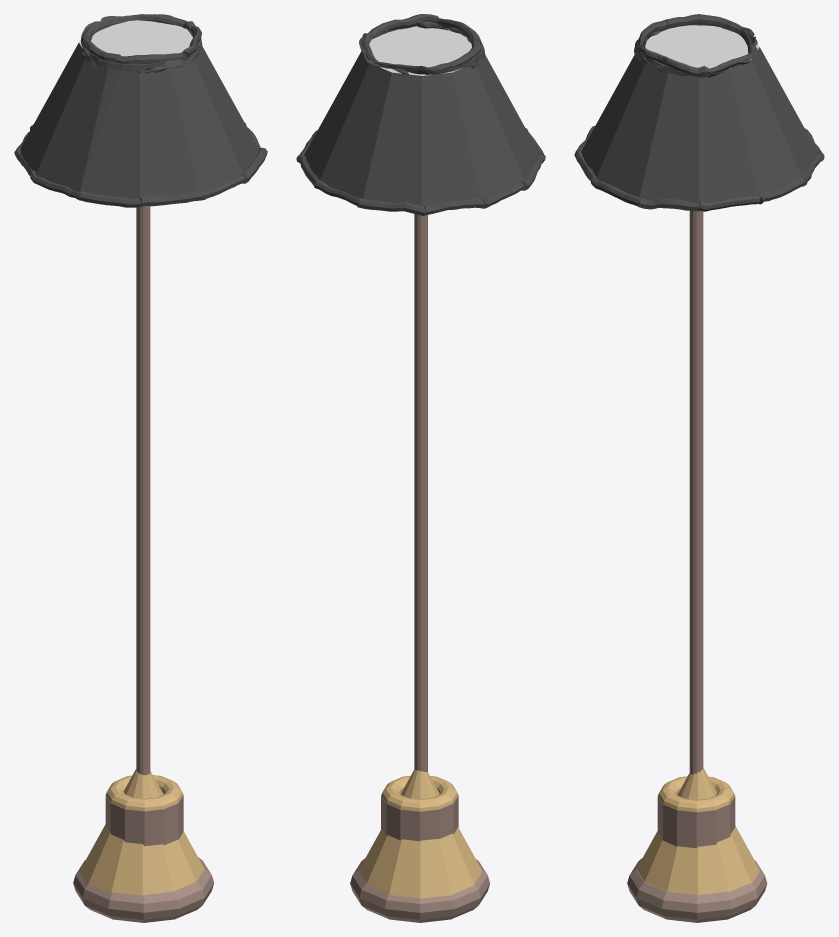
Rendered from lamp.gltf.
The picture shows the model from 3 angles, left to right: view 1: azimuth 30°, elevation 25°; view 2: azimuth 150°, elevation 25°; view 3: azimuth 270°, elevation 25°; orthographic projection.
Visible parts, largest first — view 1: group663315449, group2146598150, group98939259, group295391733, group802999880, group2143784288, group1783123766, group1465345090, group1883532072, group822916234, group566117228, group2031585872; view 2: group663315449, group2146598150, group98939259, group295391733, group802999880, group2143784288, group461903529, group793641771, group2031585872, group264184642, group322761414; view 3: group663315449, group2146598150, group98939259, group295391733, group802999880, group2143784288, group322761414, group2031585872, group793641771, group1737504698, group1019566090.
Part boxes in pixels (x1=…): group663315449: x1=20, y1=20, x2=259, y2=198; group2146598150: x1=136, y1=206, x2=150, y2=775; group98939259: x1=80, y1=769, x2=204, y2=895; group295391733: x1=73, y1=857, x2=213, y2=922; group802999880: x1=105, y1=791, x2=183, y2=846; group2143784288: x1=106, y1=775, x2=183, y2=811; group1783123766: x1=93, y1=14, x2=188, y2=31; group1465345090: x1=140, y1=191, x2=202, y2=206; group1883532072: x1=79, y1=191, x2=141, y2=207; group822916234: x1=115, y1=53, x2=190, y2=64; group566117228: x1=86, y1=54, x2=165, y2=71; group2031585872: x1=81, y1=14, x2=202, y2=68; group663315449: x1=304, y1=26, x2=540, y2=206; group2146598150: x1=414, y1=214, x2=427, y2=772; group98939259: x1=358, y1=769, x2=482, y2=898; group295391733: x1=350, y1=858, x2=489, y2=922; group802999880: x1=381, y1=795, x2=458, y2=841; group2143784288: x1=381, y1=775, x2=458, y2=811; group461903529: x1=357, y1=198, x2=425, y2=216; group793641771: x1=362, y1=14, x2=439, y2=39; group2031585872: x1=359, y1=28, x2=483, y2=74; group264184642: x1=424, y1=198, x2=484, y2=215; group322761414: x1=421, y1=39, x2=481, y2=71; group663315449: x1=581, y1=25, x2=817, y2=203; group2146598150: x1=689, y1=210, x2=703, y2=774; group98939259: x1=636, y1=768, x2=760, y2=894; group295391733: x1=627, y1=858, x2=767, y2=922; group802999880: x1=657, y1=796, x2=735, y2=848; group2143784288: x1=658, y1=776, x2=734, y2=812; group322761414: x1=666, y1=14, x2=745, y2=35; group2031585872: x1=634, y1=25, x2=755, y2=76; group793641771: x1=639, y1=44, x2=704, y2=76; group1737504698: x1=639, y1=198, x2=700, y2=211; group1019566090: x1=698, y1=195, x2=760, y2=211.
Size of the model in its own units: 0.3165 by 1.22 by 0.3212.
